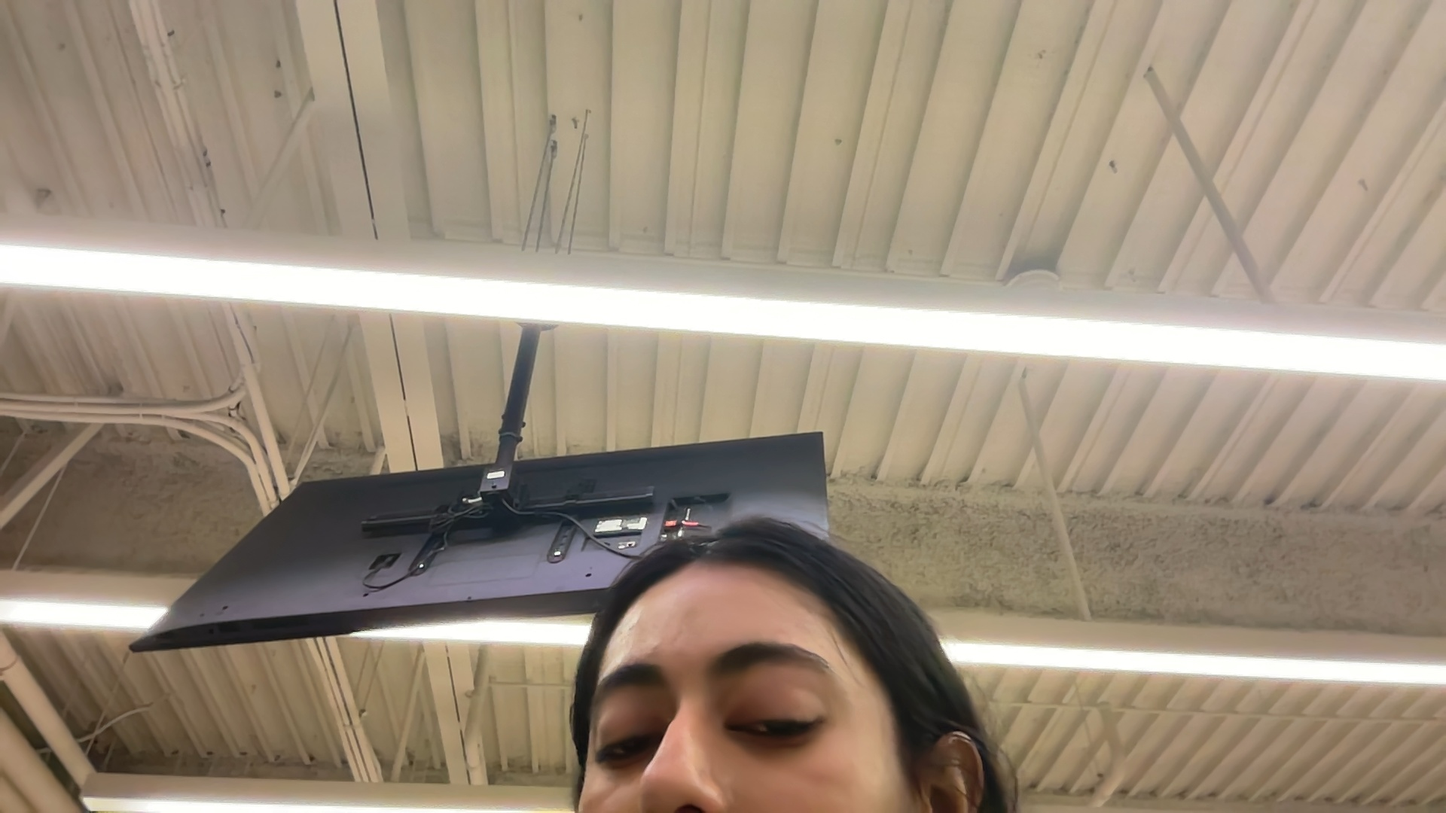Plastic: (0, 244, 1146, 808)
